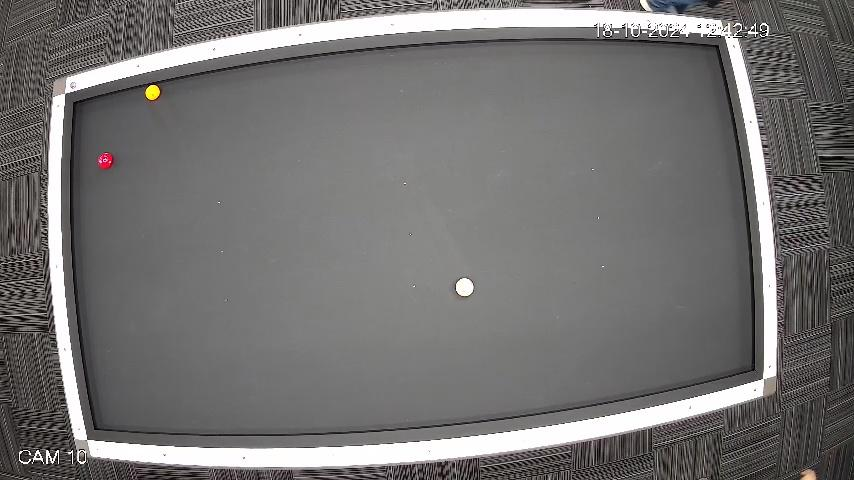Red: (96, 151, 114, 170)
White: (455, 276, 476, 297)
Yellow: (144, 84, 163, 103)
